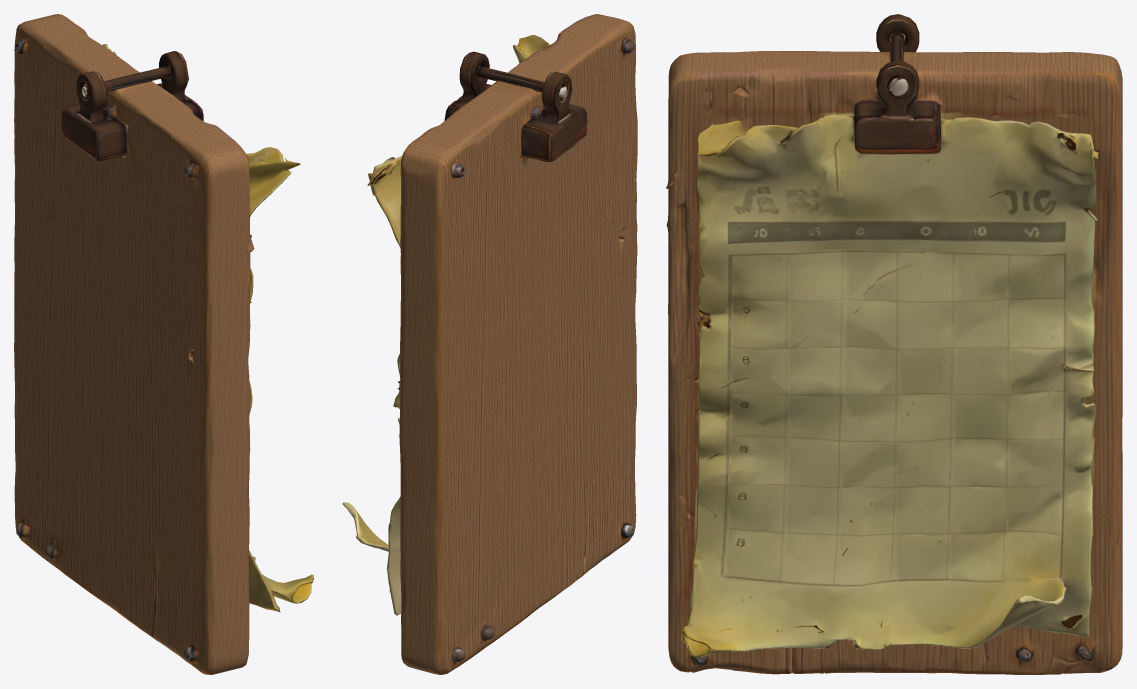
The model's file is scene-calendar-board-v03.glb.
3 renders of one model, left to right at view 1: azimuth 30°, elevation 25°; view 2: azimuth 150°, elevation 25°; view 3: azimuth 270°, elevation 25°, orthographic. The views are drawn at different scales.
Visible parts, largest first — view 1: tripo_node_e47e7ef3-eeec-4479-946e-18506c0bc43a; view 2: tripo_node_e47e7ef3-eeec-4479-946e-18506c0bc43a; view 3: tripo_node_e47e7ef3-eeec-4479-946e-18506c0bc43a.
Part boxes in pixels (x1=…): tripo_node_e47e7ef3-eeec-4479-946e-18506c0bc43a: x1=14, y1=14, x2=313, y2=674; tripo_node_e47e7ef3-eeec-4479-946e-18506c0bc43a: x1=342, y1=14, x2=637, y2=674; tripo_node_e47e7ef3-eeec-4479-946e-18506c0bc43a: x1=666, y1=14, x2=1122, y2=674.
Size of the model in its own units: 0.2183 by 0.65 by 0.4301.
Materials: 1 (1 with a texture image).
